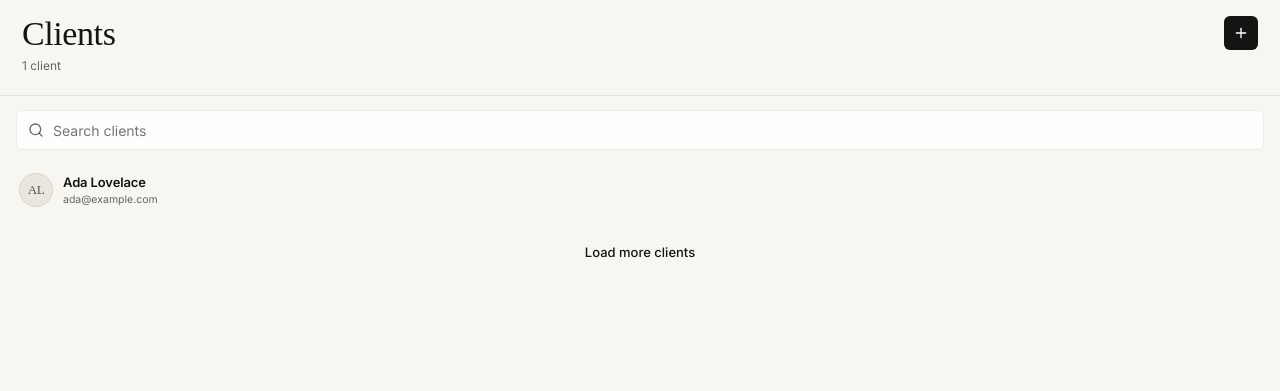
Test: client management › filters, selects, and paginates loaded clients
Click the button "AL Ada Lovelace ada@example.com" at (36, 190), box [8, 164, 1257, 216]
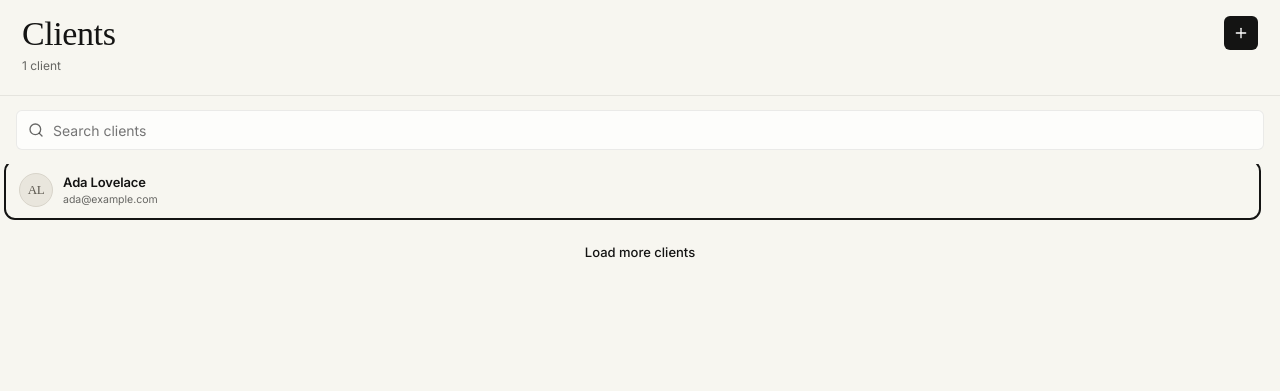
Type "nobody" into the search field labelled "Search clients" at (640, 130), box [16, 110, 1264, 150]
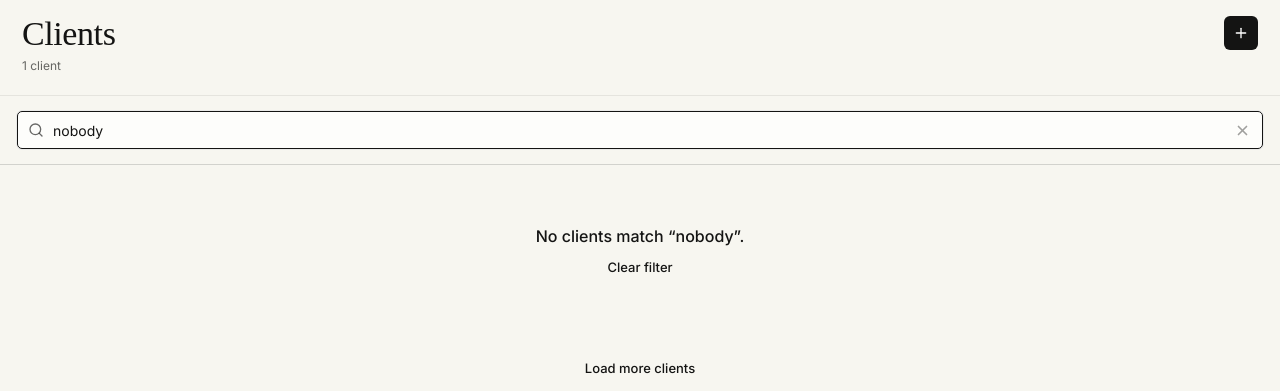
Result: the text "No clients match “nobody”." is shown at [536, 226, 744, 246]
Click the button "Clear filter" at (640, 268), box [594, 252, 686, 284]
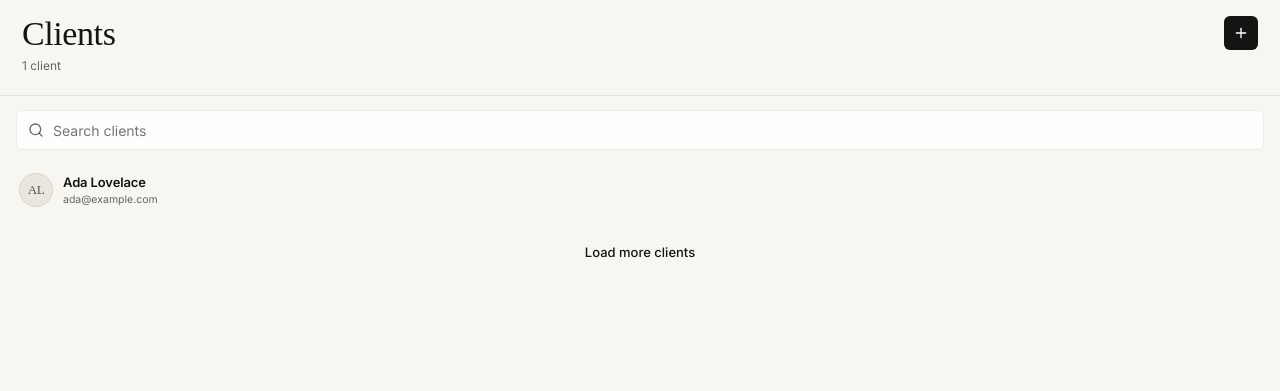
Result: the button "AL Ada Lovelace ada@example.com" is shown at [8, 164, 1257, 216]
Click the button "Load more clients" at (640, 252), box [572, 236, 708, 268]
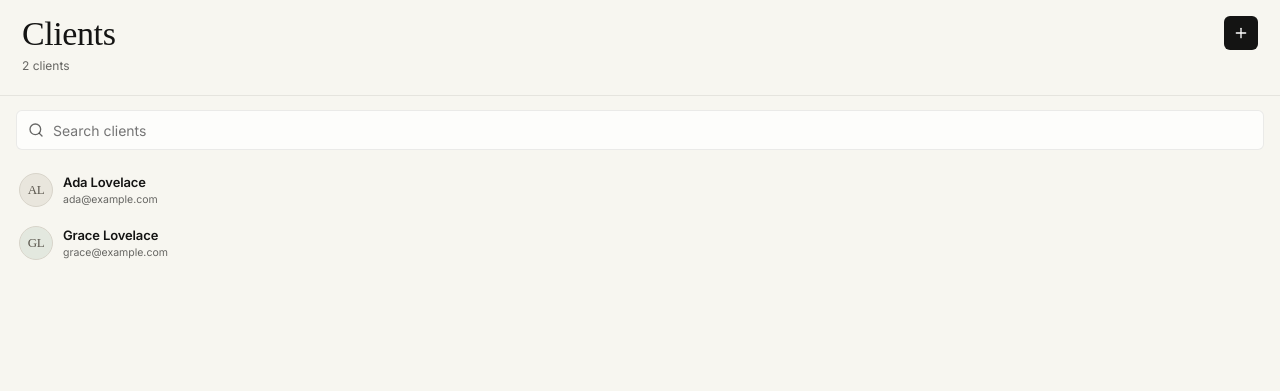
Result: the button "GL Grace Lovelace grace@example.com" is shown at [8, 217, 1257, 269]
